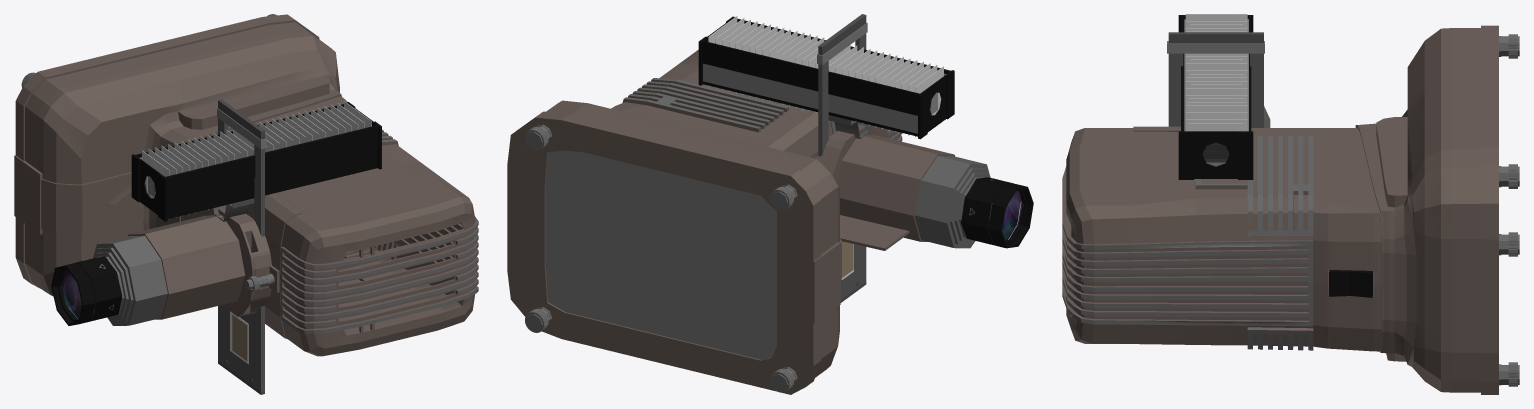
Rendered from Old_Slide_Projector.obj.
3 renders of one model, left to right at view 1: azimuth 30°, elevation 25°; view 2: azimuth 150°, elevation 25°; view 3: azimuth 270°, elevation 25°, orthographic. The views are drawn at different scales.
Parts seen in each view (by area): view 1: slide_projector, slide_projector_01, slide_projector_12, slide_projector_04, slide_projector_05_pivot, slide_projector_06, slide_projector_08, slide_projector_03, slide_projector_02, slide_projector_07, slide_projector_63_pivot, slide_projector_11 (+3 smaller); view 2: slide_projector, slide_projector_17_pivot, slide_projector_01, slide_projector_12, slide_projector_04, slide_projector_05_pivot, slide_projector_06, slide_projector_14, slide_projector_03, slide_projector_08, slide_projector_23_pivot, slide_projector_07 (+4 smaller); view 3: slide_projector_01, slide_projector, slide_projector_12, slide_projector_08, slide_projector_57, slide_projector_11, slide_projector_10, slide_projector_56, slide_projector_23_pivot, slide_projector_55, slide_projector_02.
Part boxes in pixels (left/top/right/bottom): slide_projector: left=14, top=14, right=341, bottom=296; slide_projector_01: left=181, top=96, right=478, bottom=356; slide_projector_12: left=131, top=102, right=381, bottom=221; slide_projector_04: left=128, top=215, right=245, bottom=319; slide_projector_05_pivot: left=93, top=235, right=167, bottom=325; slide_projector_06: left=51, top=256, right=122, bottom=325; slide_projector_08: left=218, top=118, right=264, bottom=391; slide_projector_03: left=197, top=207, right=279, bottom=316; slide_projector_02: left=247, top=192, right=306, bottom=338; slide_projector_07: left=62, top=270, right=81, bottom=318; slide_projector_63_pivot: left=232, top=314, right=247, bottom=361; slide_projector_11: left=218, top=99, right=264, bottom=139; slide_projector: left=507, top=100, right=841, bottom=394; slide_projector_17_pivot: left=545, top=150, right=776, bottom=359; slide_projector_01: left=611, top=50, right=902, bottom=158; slide_projector_12: left=698, top=16, right=954, bottom=139; slide_projector_04: left=837, top=135, right=955, bottom=241; slide_projector_05_pivot: left=914, top=156, right=992, bottom=248; slide_projector_06: left=961, top=177, right=1033, bottom=248; slide_projector_14: left=703, top=63, right=917, bottom=133; slide_projector_03: left=816, top=124, right=909, bottom=250; slide_projector_08: left=818, top=33, right=866, bottom=299; slide_projector_23_pivot: left=525, top=127, right=793, bottom=392; slide_projector_07: left=1002, top=191, right=1022, bottom=240; slide_projector_01: left=1062, top=128, right=1381, bottom=351; slide_projector: left=1355, top=25, right=1498, bottom=394; slide_projector_12: left=1178, top=15, right=1253, bottom=179; slide_projector_08: left=1168, top=53, right=1263, bottom=127; slide_projector_57: left=1329, top=270, right=1372, bottom=297; slide_projector_11: left=1168, top=32, right=1263, bottom=43; slide_projector_10: left=1167, top=41, right=1264, bottom=53; slide_projector_56: left=1185, top=123, right=1247, bottom=166; slide_projector_23_pivot: left=1508, top=34, right=1517, bottom=386; slide_projector_55: left=1185, top=119, right=1247, bottom=166; slide_projector_02: left=1129, top=126, right=1180, bottom=133.
Bounding box in the file's own units: 32.61 × 22 × 31.15.
Materials: 17 (4 with a texture image).
